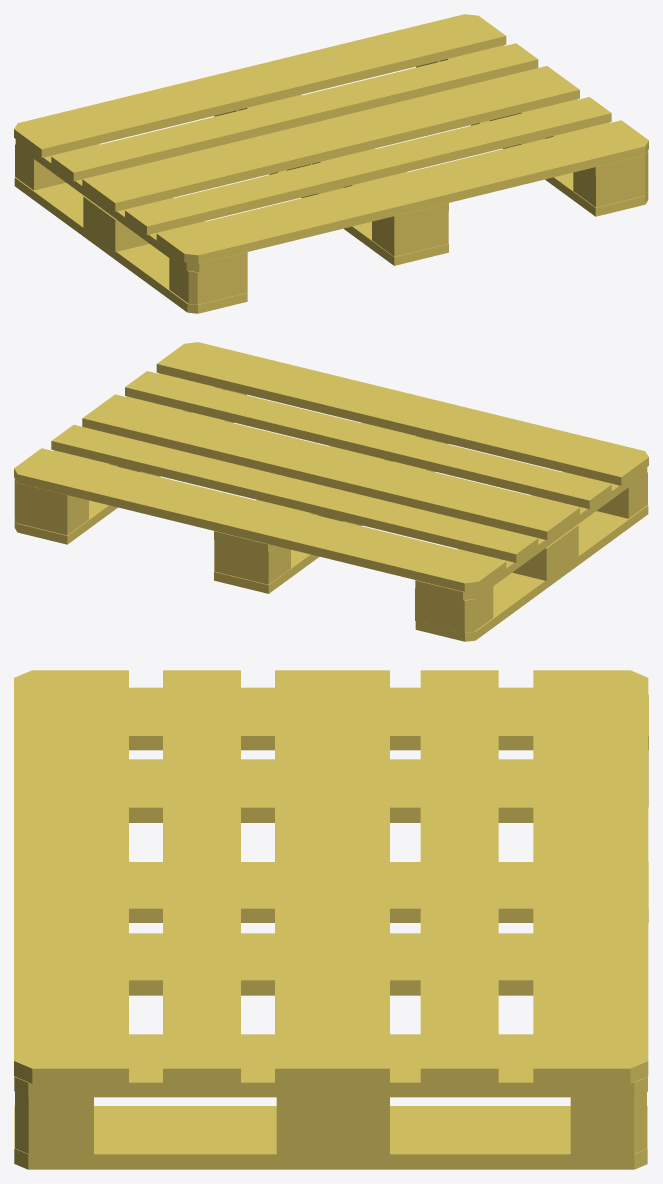
Rendered from EuroPalette_03.fbx.
3 views of the same model, one above another, from view 1: azimuth 30°, elevation 25°; view 2: azimuth 150°, elevation 25°; view 3: azimuth 270°, elevation 25° (orthographic). The views are drawn at different scales.
Visible parts, largest first — view 1: Palette_01-ecken-rund; view 2: Palette_01-ecken-rund; view 3: Palette_01-ecken-rund.
Boxes of the visible parts, <box> form: Palette_01-ecken-rund: <box>14,14,648,313</box>; Palette_01-ecken-rund: <box>14,342,648,641</box>; Palette_01-ecken-rund: <box>14,670,648,1169</box>.
Bounding box in the file's own units: 119 × 14.28 × 79.96.
